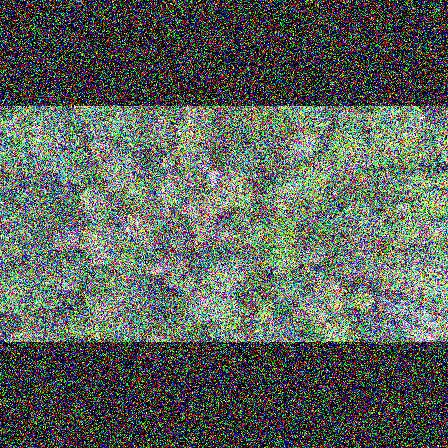Dead: (374, 294, 438, 328), (376, 304, 434, 340), (51, 217, 89, 255), (149, 258, 175, 281), (203, 167, 225, 189)
